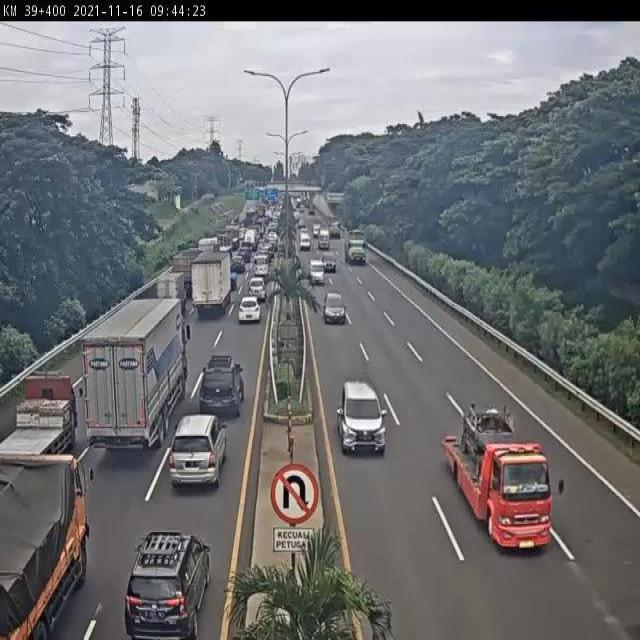car: (125, 532, 211, 640), (170, 415, 230, 491), (337, 381, 388, 456), (201, 355, 246, 417), (323, 292, 347, 325), (238, 298, 262, 322), (308, 259, 325, 285)
truck: (442, 399, 566, 552), (82, 299, 191, 455), (0, 373, 82, 479), (192, 251, 232, 317), (159, 272, 190, 316)
